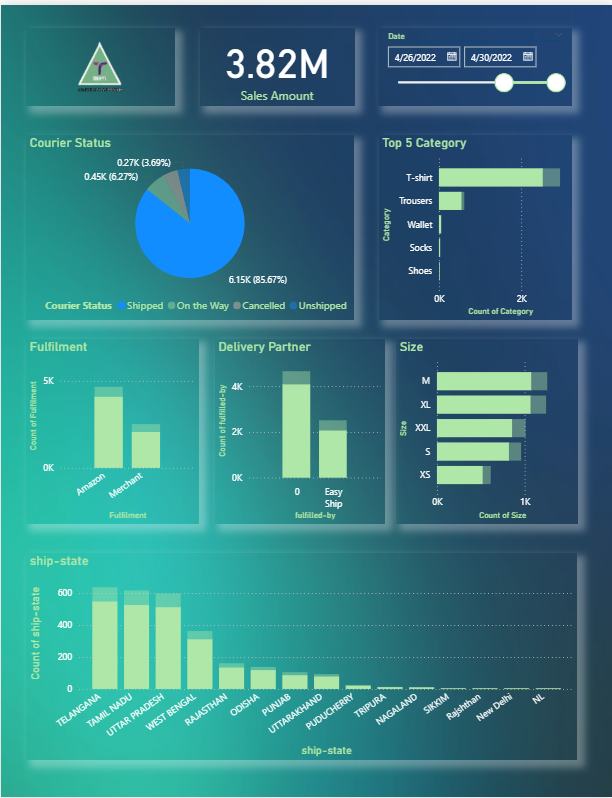

The dashboard page shown, as its layout file describes it:
{"tool":"powerbi","page":{"name":"Page 1","canvas":[816,1056],"ordinal":0},"visuals":[{"type":"image","box":[33.7,29.8,198.1,104.8],"z":0},{"type":"card","fields":{"Values":["Sum(Amazon Sale Report (2).Amount)"]},"box":[264.4,29.8,206.7,104.8],"z":1000},{"type":"slicer","fields":{"Values":["Amazon Sale Report (2).Date"]},"box":[503.8,29.8,257.7,104.8],"z":2000},{"type":"barChart","title":" Top 5 Category ","fields":{"Category":["Amazon Sale Report (2).Category"],"Y":["CountNonNull(Amazon Sale Report (2).Category)"]},"box":[503.8,173.1,257.7,246.2],"z":3000},{"type":"pieChart","title":"Courier Status","fields":{"Category":["Amazon Sale Report (2).Courier Status"],"Y":["CountNonNull(Amazon Sale Report (2).Courier Status)"]},"box":[33.7,173.1,437.5,246.2],"z":4000},{"type":"clusteredColumnChart","title":"Fulfilment","fields":{"Category":["Amazon Sale Report (2).Fulfilment"],"Y":["CountNonNull(Amazon Sale Report (2).Fulfilment)"]},"box":[33.7,444.2,230.8,246.2],"z":5000},{"type":"clusteredColumnChart","title":"Delivery Partner","fields":{"Category":["Amazon Sale Report (2).fulfilled-by"],"Y":["CountNonNull(Amazon Sale Report (2).fulfilled-by)"]},"box":[284.6,444.2,226.9,246.2],"z":6000},{"type":"clusteredBarChart","title":"Size","fields":{"Category":["Amazon Sale Report (2).Size"],"Y":["CountNonNull(Amazon Sale Report (2).Size)"]},"box":[526.9,444.2,242.3,246.2],"z":7000},{"type":"clusteredColumnChart","title":"ship-state","fields":{"Category":["Amazon Sale Report (2).ship-state"],"Y":["CountNonNull(Amazon Sale Report (2).ship-state)"]},"box":[33.7,730.8,735.6,276.9],"z":8000}]}

Visuals, with their boxes in screenshot pixels (x1, y1, x2, y2), scaled from the page's 816x1056 canvas onto the 612x798 screenshot:
image: (left=25, top=23, right=174, bottom=102)
card - Sum(Amazon Sale Report (2).Amount): (left=198, top=23, right=353, bottom=102)
slicer - Amazon Sale Report (2).Date: (left=378, top=23, right=571, bottom=102)
" Top 5 Category " barChart: (left=378, top=131, right=571, bottom=317)
"Courier Status" pieChart: (left=25, top=131, right=353, bottom=317)
"Fulfilment" clusteredColumnChart: (left=25, top=336, right=198, bottom=522)
"Delivery Partner" clusteredColumnChart: (left=213, top=336, right=384, bottom=522)
"Size" clusteredBarChart: (left=395, top=336, right=577, bottom=522)
"ship-state" clusteredColumnChart: (left=25, top=552, right=577, bottom=762)
